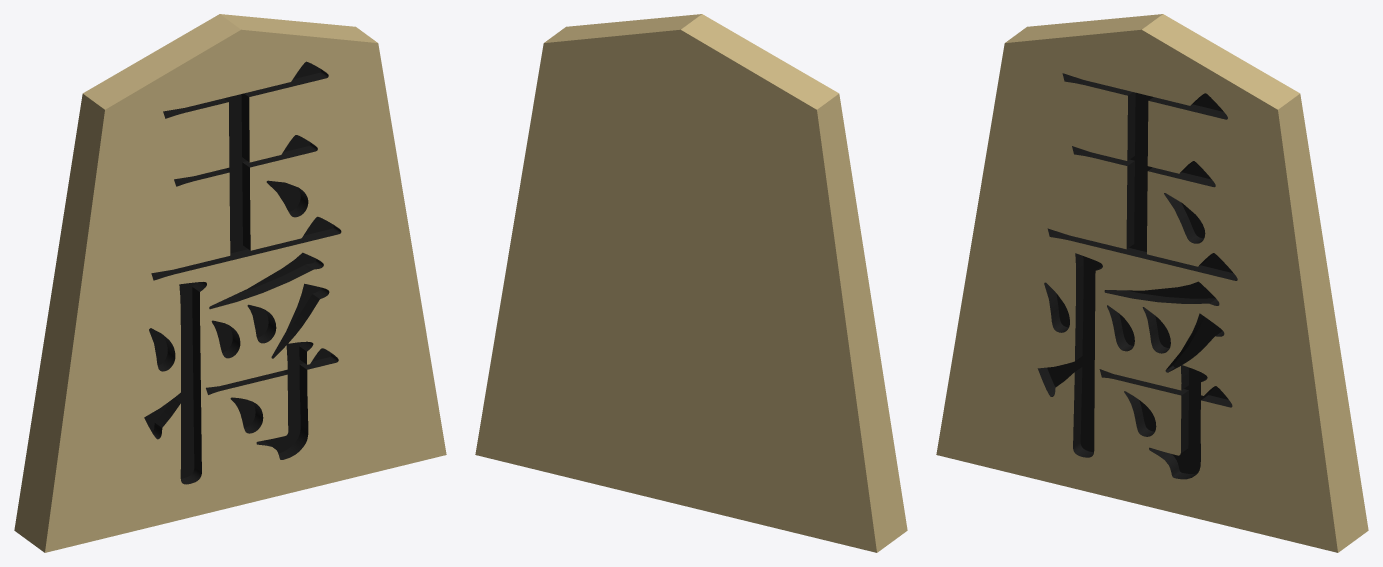
The picture shows the model from 3 angles, left to right: view 1: azimuth 30°, elevation 25°; view 2: azimuth 150°, elevation 25°; view 3: azimuth 330°, elevation 25°; orthographic projection.
Visible parts, largest first — view 1: gyoku; view 2: gyoku; view 3: gyoku.
Part boxes in pixels (box(x1,y1,x2,y2)): gyoku: box(14, 14, 446, 552); gyoku: box(475, 14, 907, 552); gyoku: box(936, 14, 1368, 552).
Bounding box in the file's own units: 0.0304 × 0.034 × 0.004.
